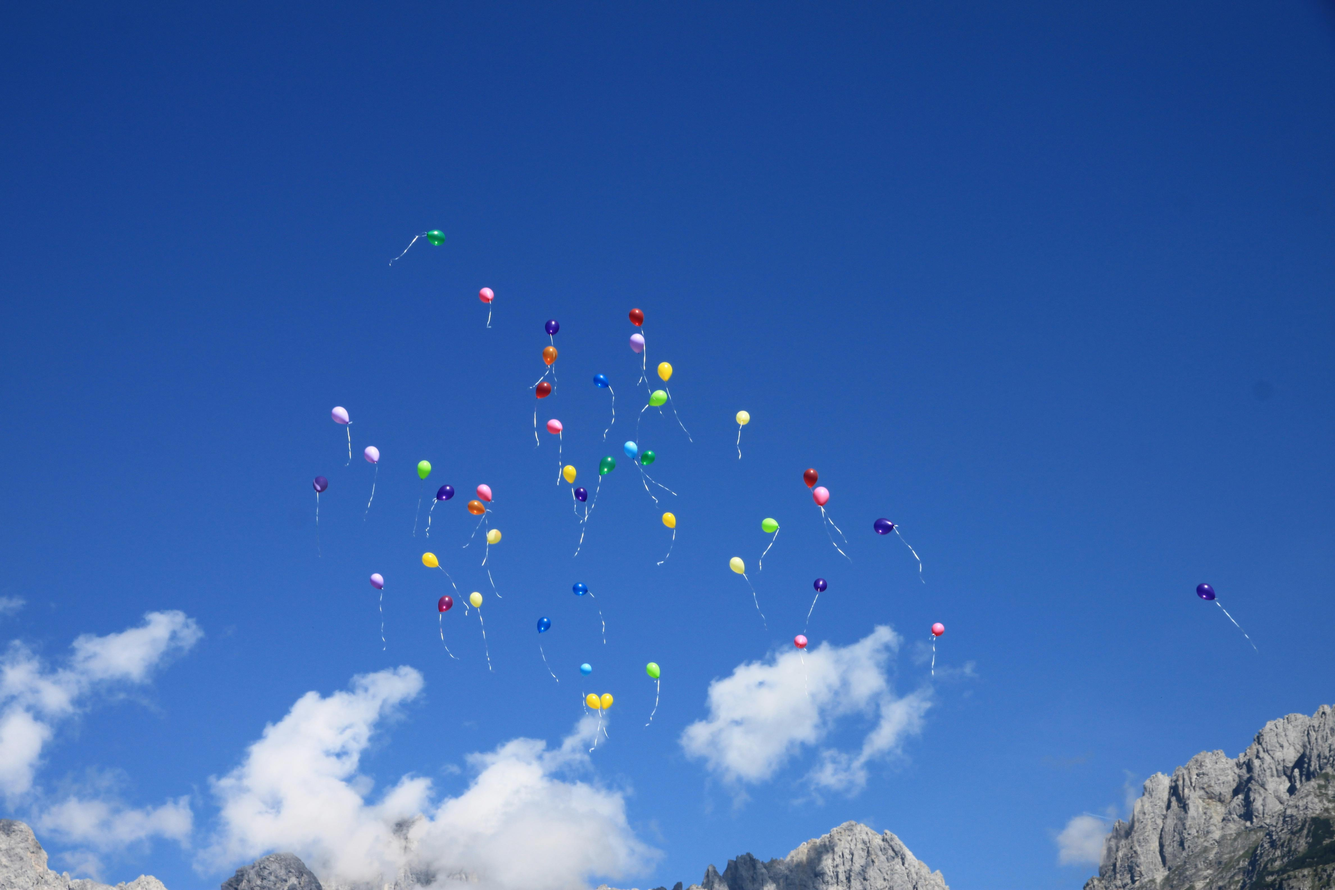balloon: (812, 486, 830, 508), (873, 517, 895, 535), (331, 407, 350, 426), (1196, 583, 1216, 600), (435, 484, 455, 501), (542, 345, 558, 366), (649, 390, 668, 407), (629, 333, 645, 353), (803, 468, 818, 489), (761, 517, 779, 534), (426, 230, 445, 246), (476, 483, 492, 502), (657, 362, 672, 382), (600, 456, 615, 476), (313, 475, 328, 495), (468, 499, 485, 516), (364, 446, 380, 464), (437, 595, 453, 613), (730, 557, 745, 576), (561, 465, 576, 484), (422, 552, 439, 568), (545, 319, 560, 337), (629, 308, 644, 326), (624, 441, 638, 460), (417, 460, 431, 479), (479, 287, 494, 304), (469, 591, 483, 609), (536, 382, 551, 398), (546, 419, 562, 434), (573, 487, 588, 503), (585, 693, 600, 709), (593, 374, 610, 388), (931, 622, 945, 639), (572, 582, 589, 596), (646, 662, 660, 679), (640, 450, 655, 465), (736, 410, 750, 426), (487, 529, 501, 545), (662, 512, 675, 528), (600, 693, 613, 709), (537, 617, 550, 633), (370, 573, 383, 589), (813, 578, 827, 592), (794, 634, 807, 649), (580, 663, 592, 675)
